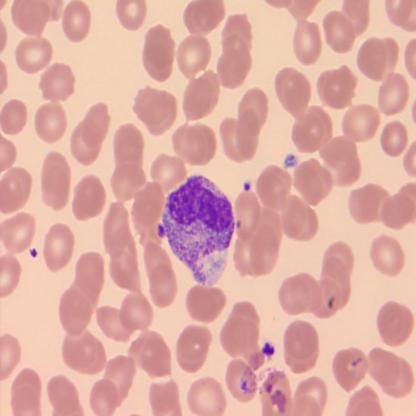Metamyelocyte: (160, 170, 239, 288)
